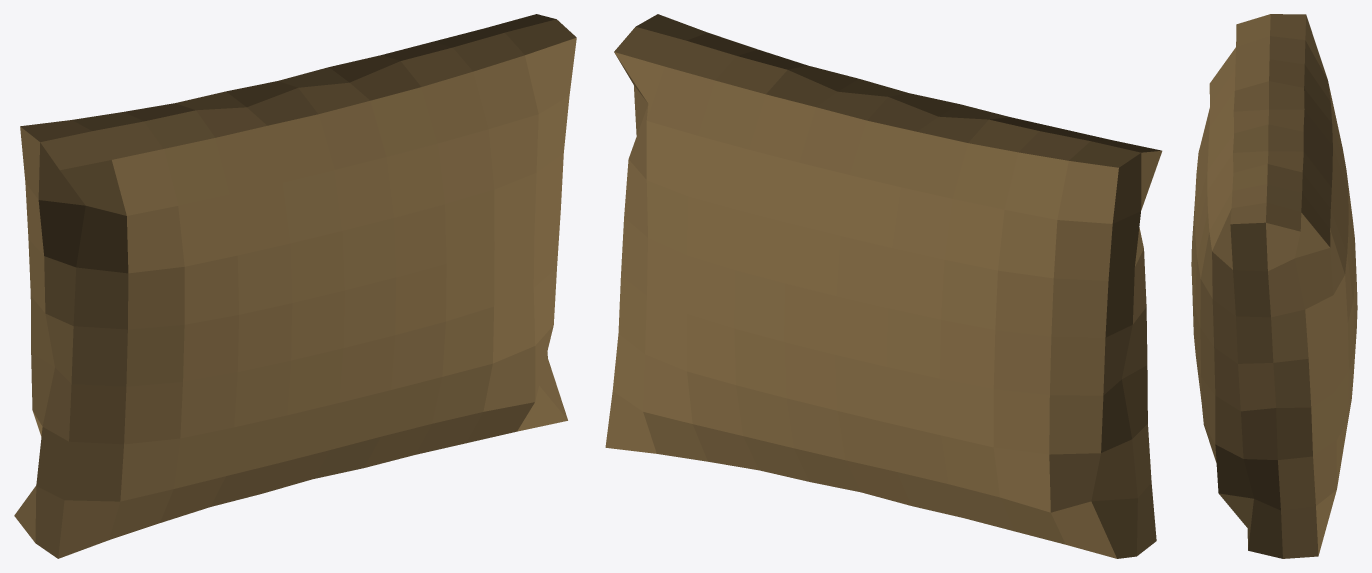
The model's file is Pillow 10.fbx.
3 renders of one model, left to right at view 1: azimuth 30°, elevation 25°; view 2: azimuth 150°, elevation 25°; view 3: azimuth 270°, elevation 25°, orthographic. The views are drawn at different scales.
Visible parts, largest first — view 1: Node 0; view 2: Node 0; view 3: Node 0.
Part boxes in pixels (left/top/right/bottom): Node 0: left=14, top=14, right=576, bottom=558; Node 0: left=605, top=14, right=1162, bottom=558; Node 0: left=1191, top=14, right=1357, bottom=558.
Bounding box in the file's own units: 0.1804 × 0.4035 × 0.5376.
